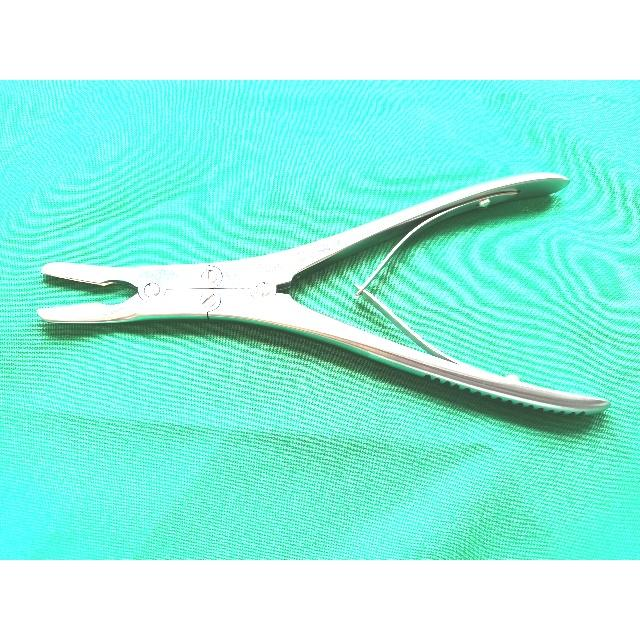gubia: (37, 173, 608, 416)
